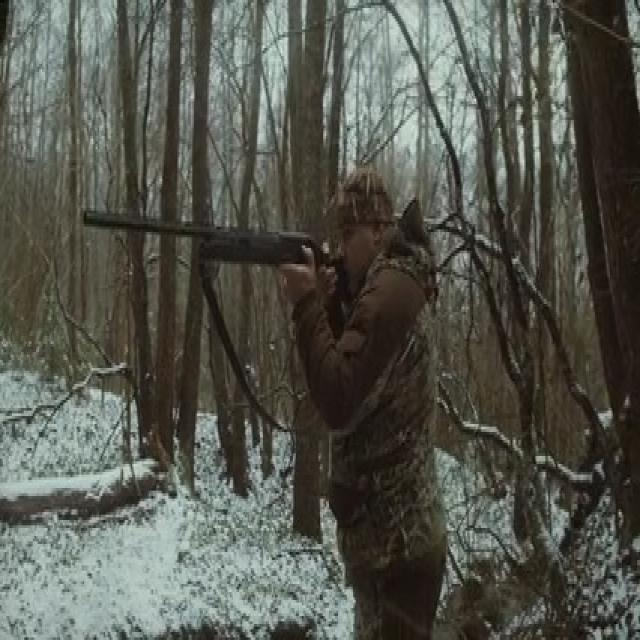Gun_Holder: (81, 197, 335, 331)
Person: (295, 171, 456, 640)
